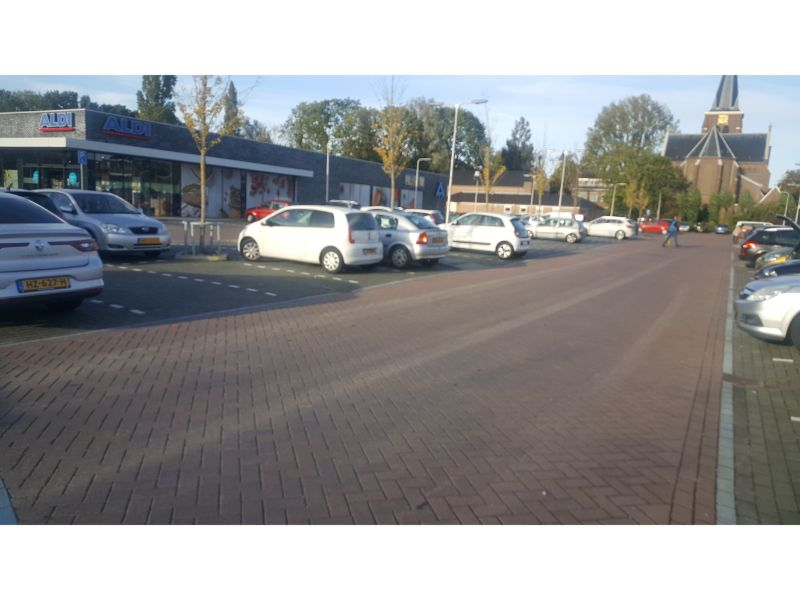kenteken: (17, 274, 72, 292)
